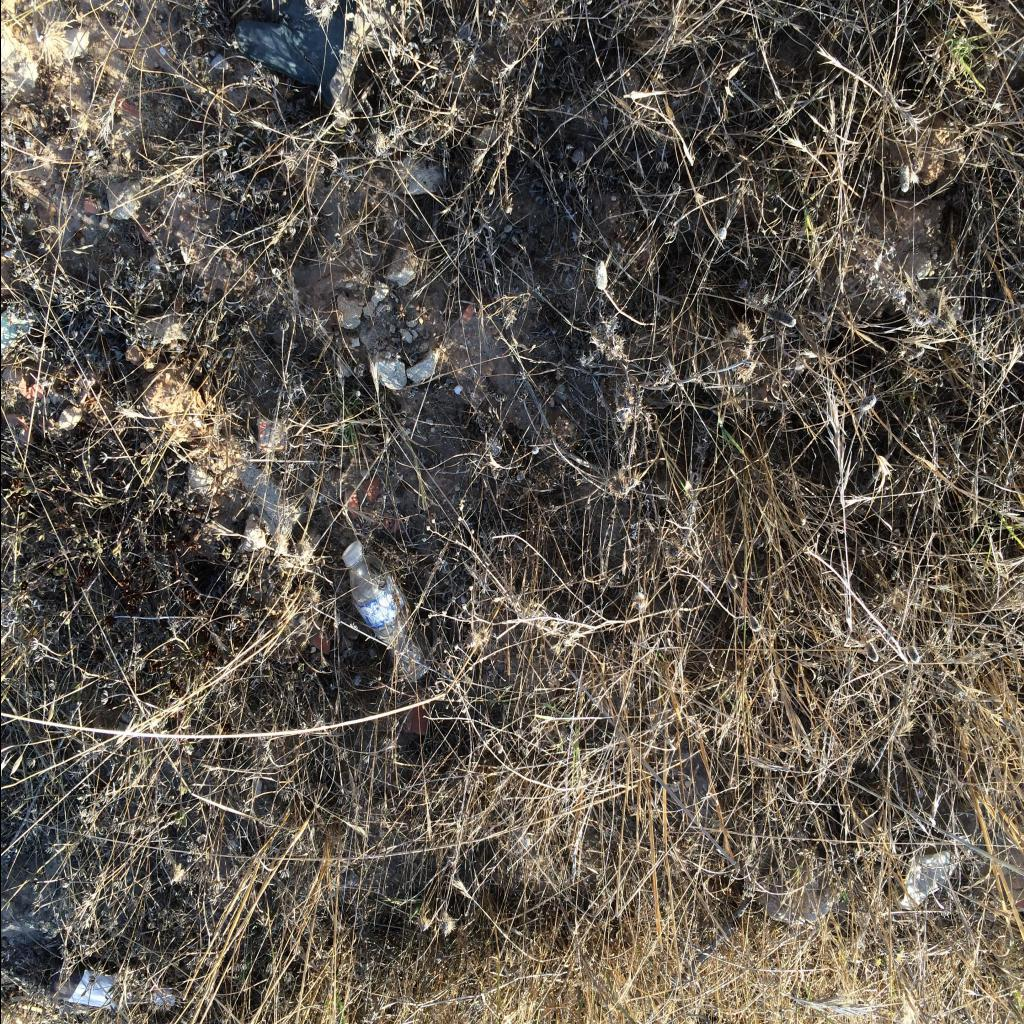Clear plastic bottle: (342, 542, 426, 682)
Glass bottle: (48, 948, 180, 1010)
Plastic bottle cap: (340, 540, 362, 564)
Unlabeled litter: (898, 851, 950, 909)
